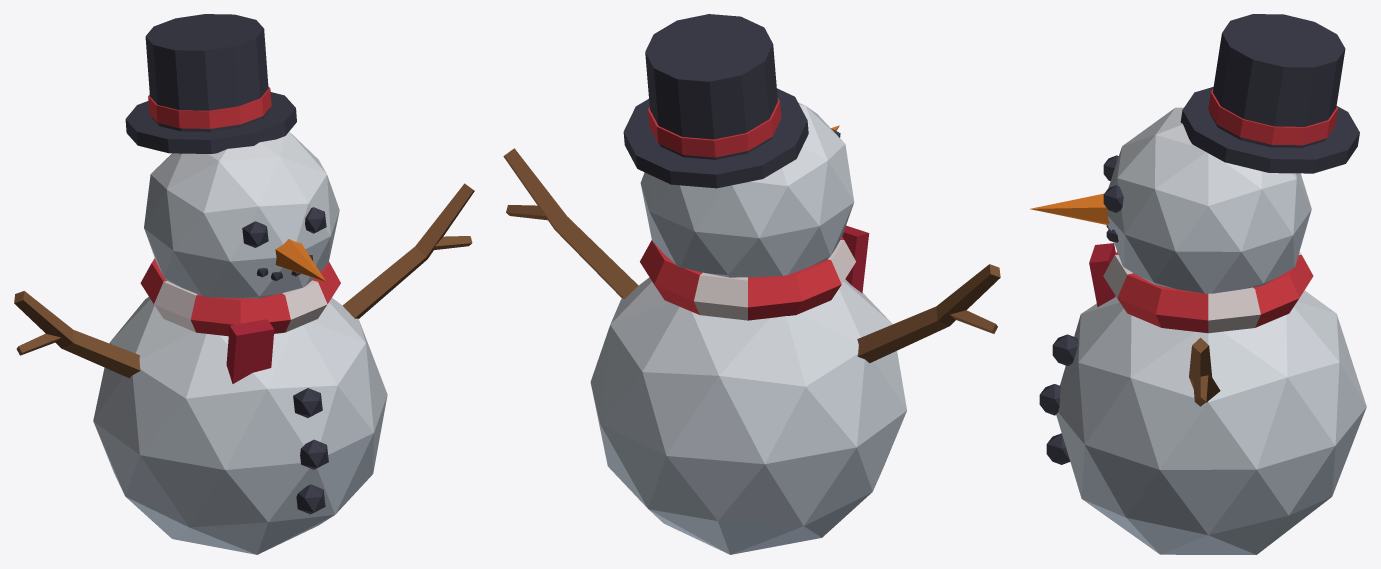
The model's file is habitat_prop_frostbite.fbx.
3 renders of one model, left to right at view 1: azimuth 30°, elevation 25°; view 2: azimuth 150°, elevation 25°; view 3: azimuth 270°, elevation 25°, orthographic. The views are drawn at different scales.
Visible parts, largest first — view 1: habitat_prop_frostbite; view 2: habitat_prop_frostbite; view 3: habitat_prop_frostbite.
Part boxes in pixels (x1,y1,x2,y2): habitat_prop_frostbite: (14,14,474,554); habitat_prop_frostbite: (503,14,1000,554); habitat_prop_frostbite: (1030,14,1366,554).
Bounding box in the file's own units: 1.43 × 1.4 × 0.8667.
